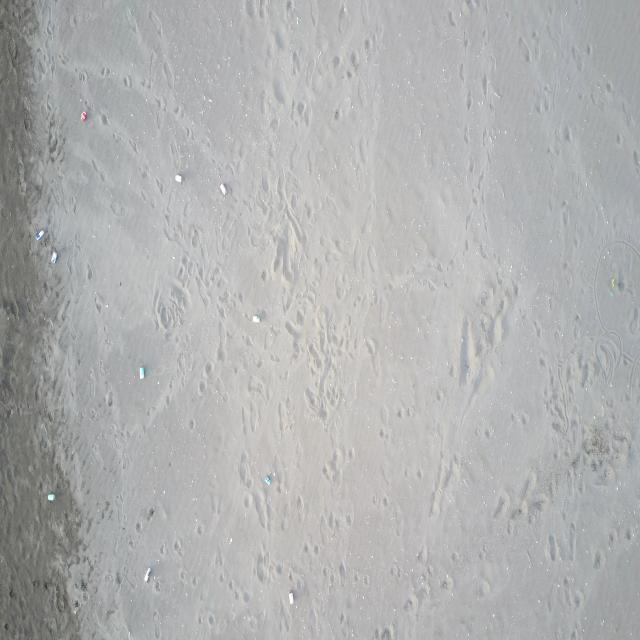tin-and-aluminum-cans: (143, 565, 152, 584), (34, 228, 46, 242), (218, 182, 228, 198), (251, 312, 262, 326), (49, 250, 59, 265), (288, 589, 295, 606), (79, 110, 87, 124), (138, 365, 145, 381), (174, 173, 183, 185), (264, 474, 272, 487), (46, 492, 56, 502)
